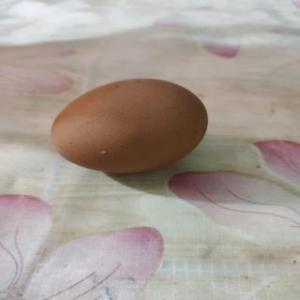egg: (45, 74, 211, 178)
